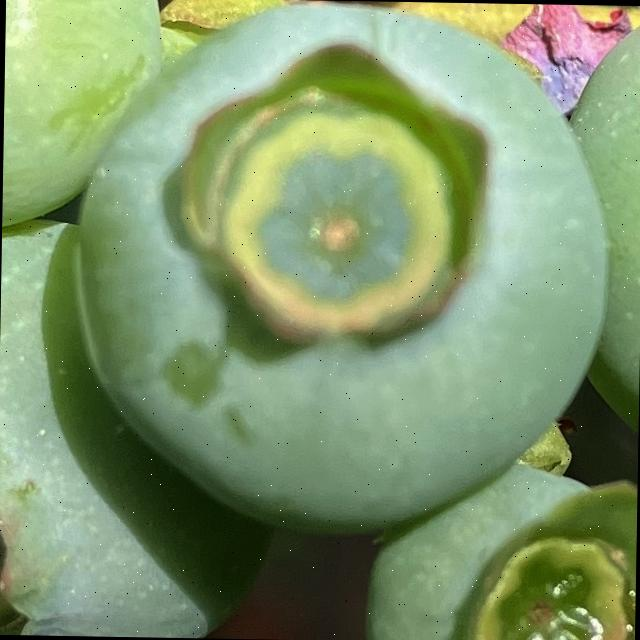Blueberries: (66, 0, 617, 539), (345, 465, 637, 640)
